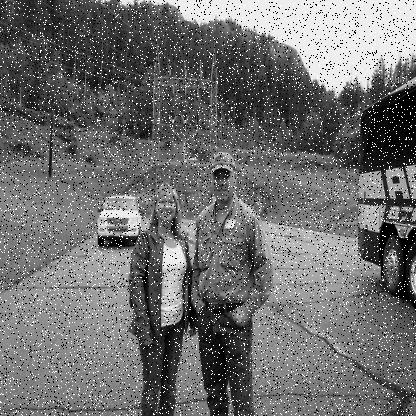Car: (97, 192, 142, 246)
